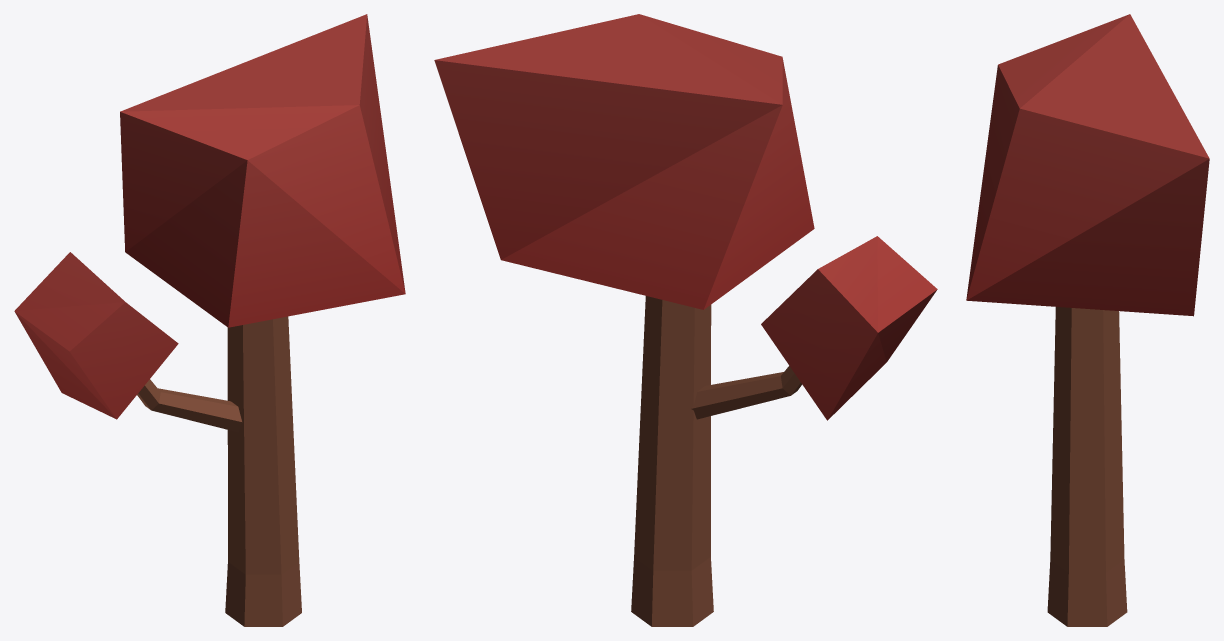
File: Tree_45_gradient_red_vc.fbx
The picture shows the model from 3 angles, left to right: view 1: azimuth 30°, elevation 25°; view 2: azimuth 150°, elevation 25°; view 3: azimuth 270°, elevation 25°; orthographic projection. The views are drawn at different scales.
Parts seen in each view (by area): view 1: Tree_45_gradient_red_vc; view 2: Tree_45_gradient_red_vc; view 3: Tree_45_gradient_red_vc.
Part boxes in pixels (left/top/right/bottom): Tree_45_gradient_red_vc: left=14, top=14, right=405, bottom=626; Tree_45_gradient_red_vc: left=434, top=14, right=937, bottom=626; Tree_45_gradient_red_vc: left=966, top=14, right=1209, bottom=626.
Bounding box in the file's own units: 139 × 179 × 73.58.
